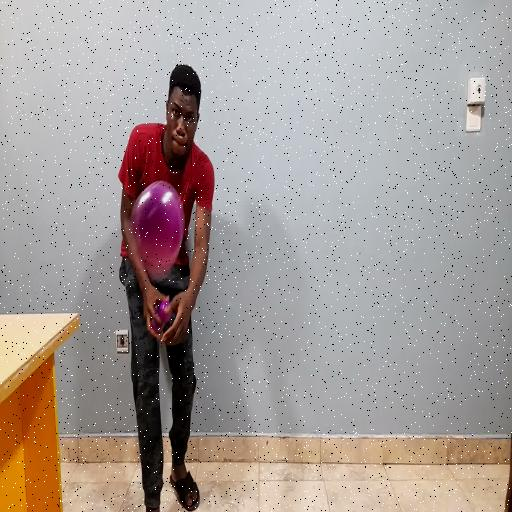plastic-ball: (135, 180, 187, 266)
